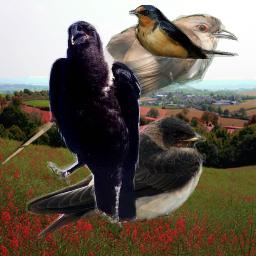Crow: (47, 19, 142, 228)
Cuckoo: (0, 13, 238, 167)
Swallow: (26, 116, 206, 239), (129, 5, 239, 59)
